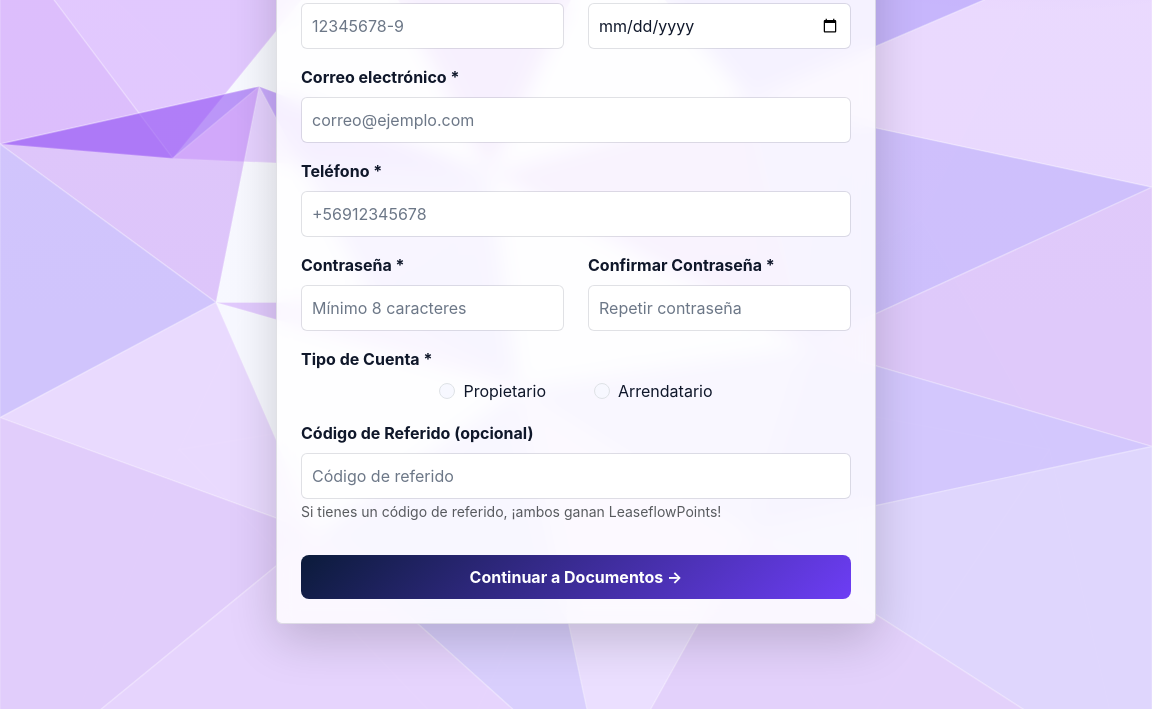
it: Registro Component - Microservicios › muestra errores de validación si los campos están vacíos
(page scrolled)
Step 1. Click the button "Continuar a Documentos →" → coordinates (576, 577), box x1=301 y1=555 x2=851 y2=599
(page scrolled)
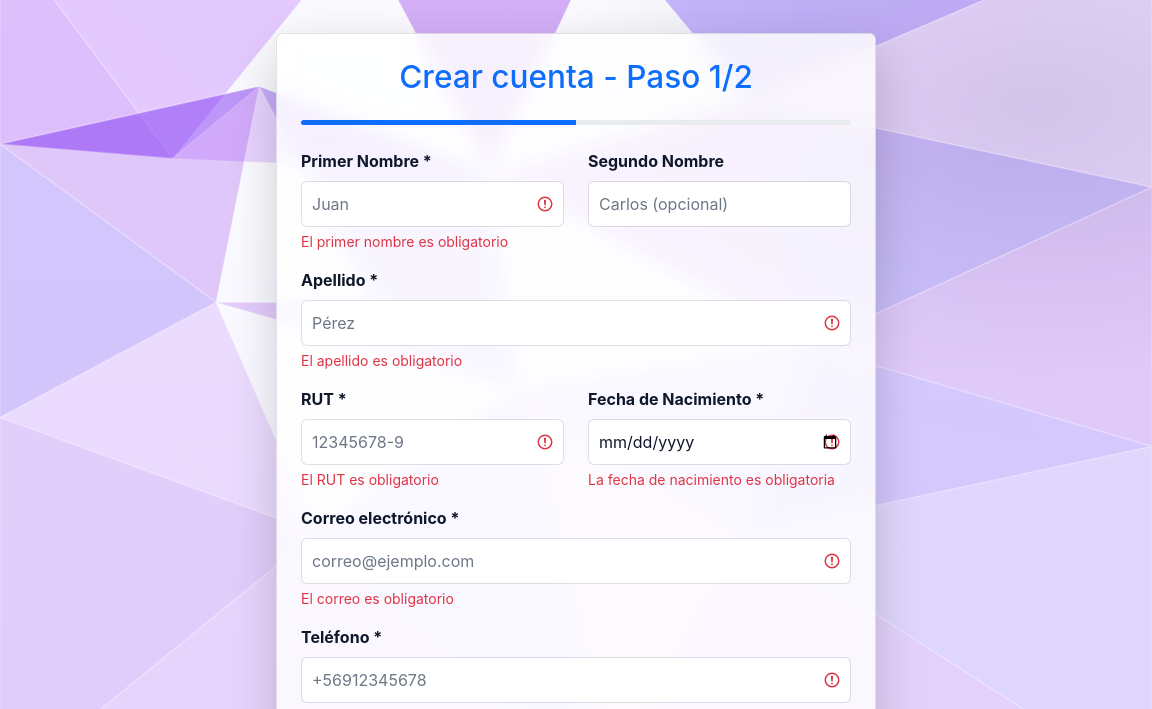
Expected: the text "El primer nombre es obligatorio" is shown, x1=301 y1=233 x2=508 y2=250
Expected: the text "El apellido es obligatorio" is shown, x1=301 y1=352 x2=462 y2=369
